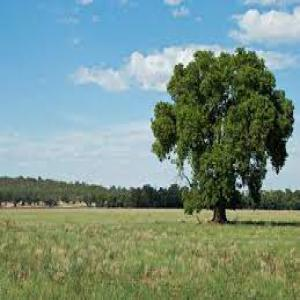Tree: (8, 2, 210, 298)
